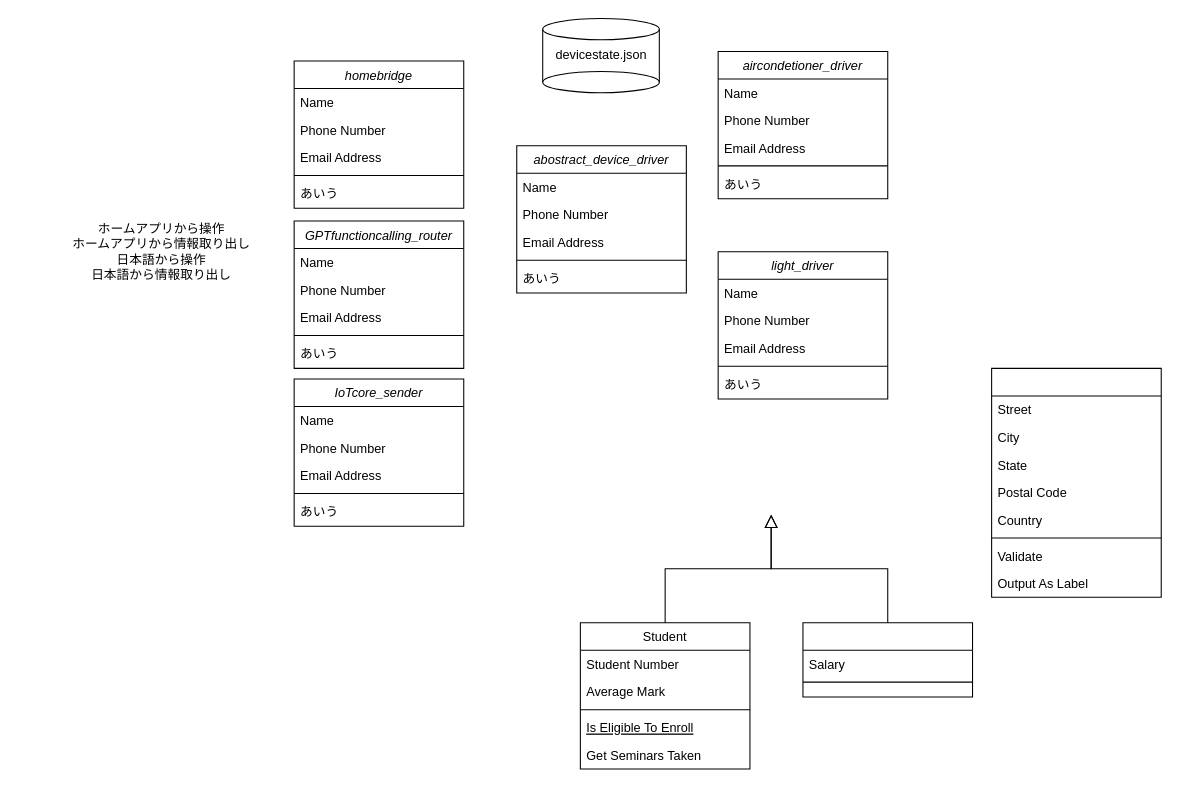
The diagram is 1180 pixels wide and 791 high, and some of its shapes have lost their labels. Each missing label, with the box of its shape:
Address: (991, 367, 1161, 597)
Professor: (802, 622, 973, 697)
